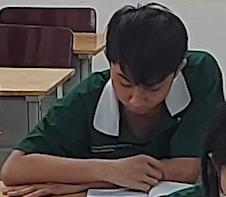Reading: (5, 2, 215, 197)
